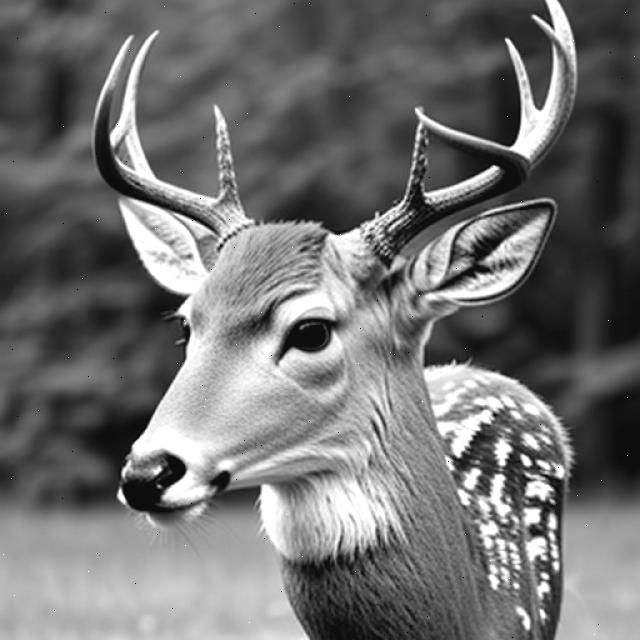deer: (72, 10, 592, 631)
